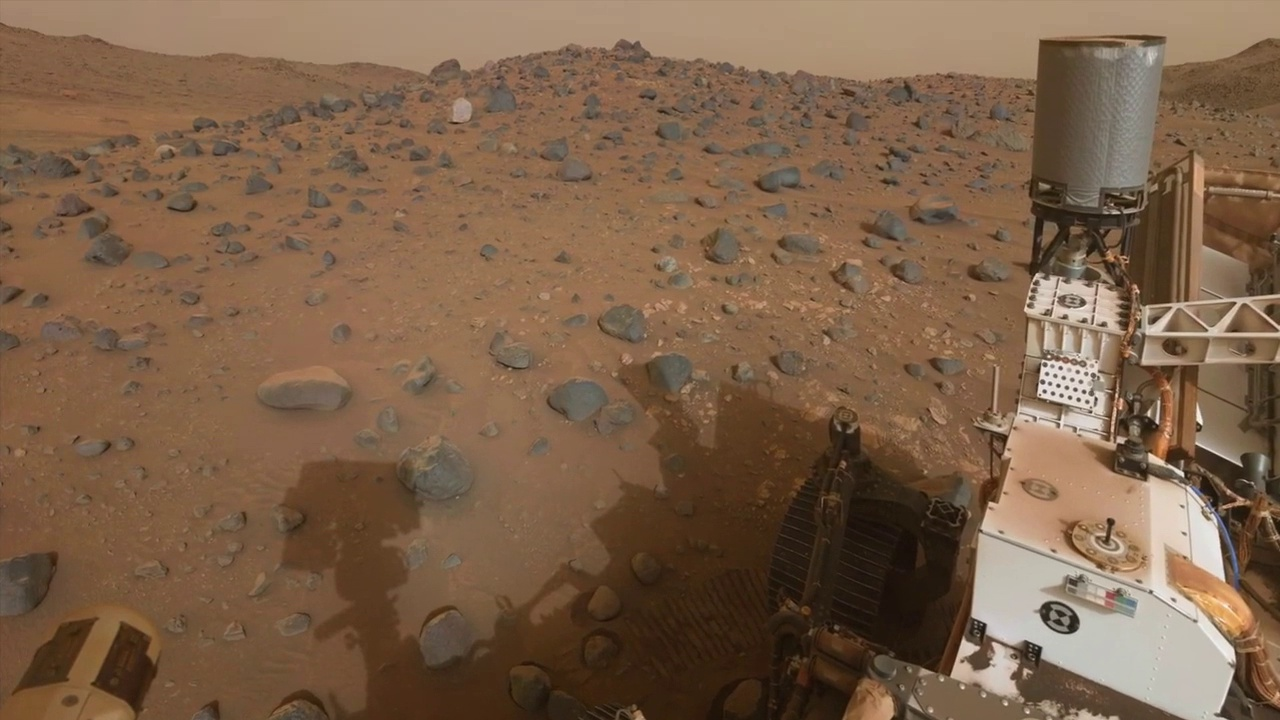rock: (546, 381, 609, 435), (860, 211, 912, 251), (597, 310, 644, 344), (1091, 518, 1125, 555), (902, 363, 943, 393), (167, 183, 208, 213), (700, 229, 734, 265), (769, 351, 810, 378), (879, 258, 920, 285), (966, 263, 1010, 283), (829, 263, 858, 292), (927, 357, 966, 377)
